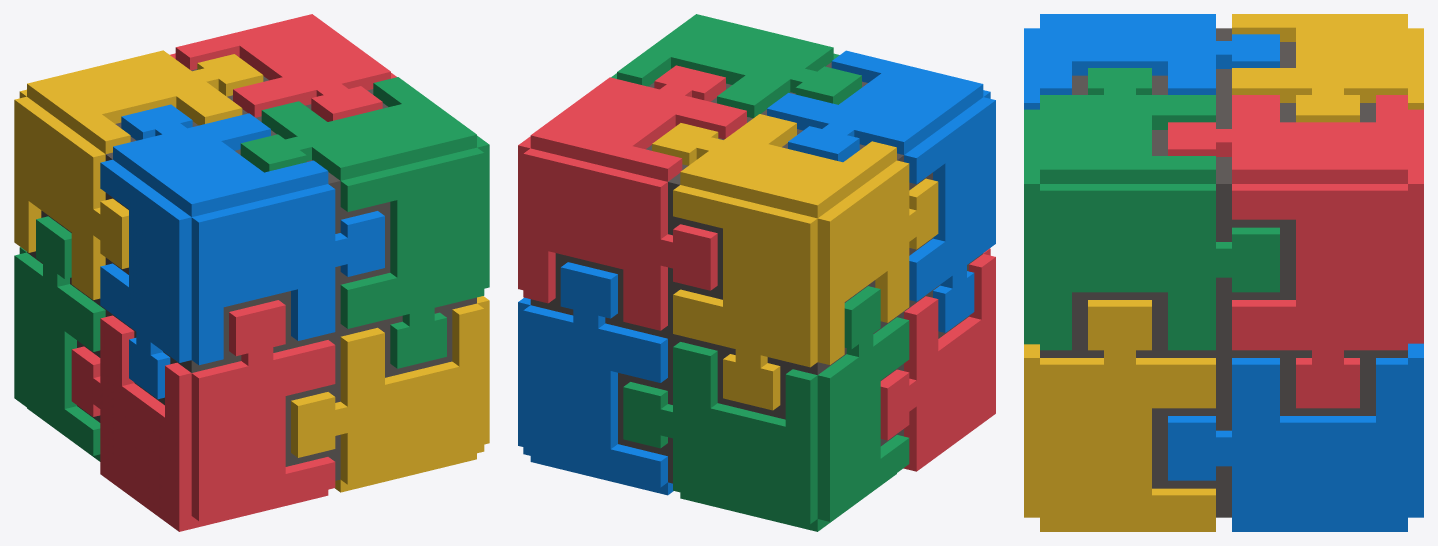
3 views of the same model, side by side, from view 1: azimuth 30°, elevation 25°; view 2: azimuth 150°, elevation 25°; view 3: azimuth 270°, elevation 25° (orthographic). The views are drawn at different scales.
Parts seen in each view (by area): view 1: Totem-Local; view 2: Totem-Local; view 3: Totem-Local.
Boxes of the visible parts, x1=… form: Totem-Local: x1=14, y1=14, x2=489, y2=531; Totem-Local: x1=518, y1=14, x2=995, y2=531; Totem-Local: x1=1024, y1=14, x2=1423, y2=531.
Bounding box in the file's own units: 25 × 25 × 25.
Materials: 1 (1 with a texture image).
